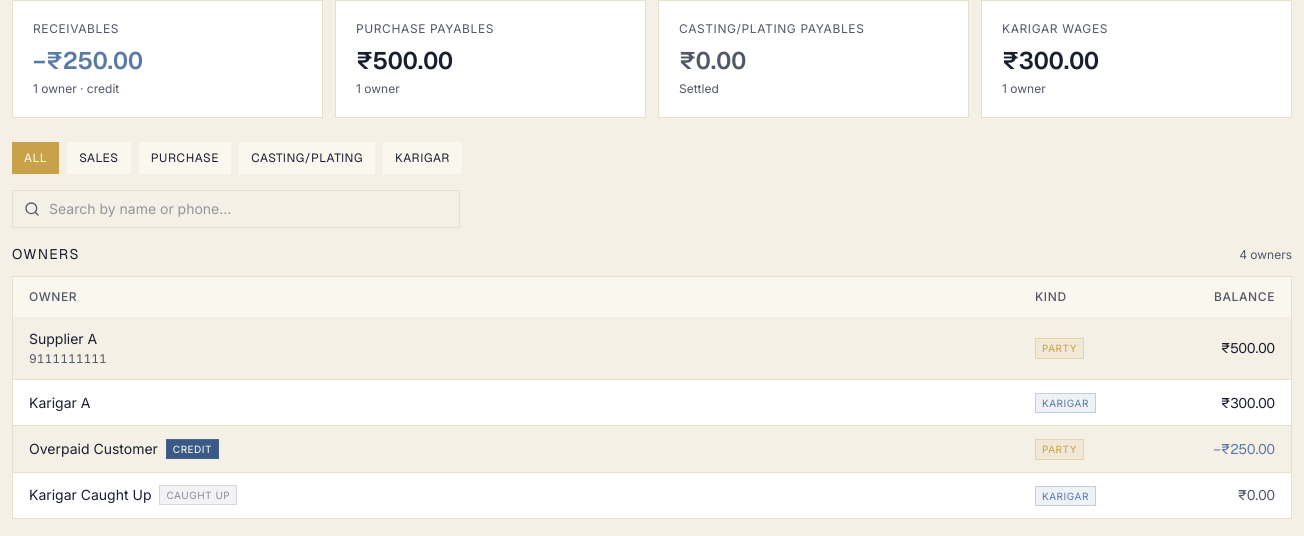
Test: LedgerClient — category tabs (Phase 21c.1.1) › clicking Purchase tab filters to purchase owners only
Step 1. Click the radio button with test id "ledger-tab" showing "Purchase" → (185,158), box [139, 142, 231, 174]
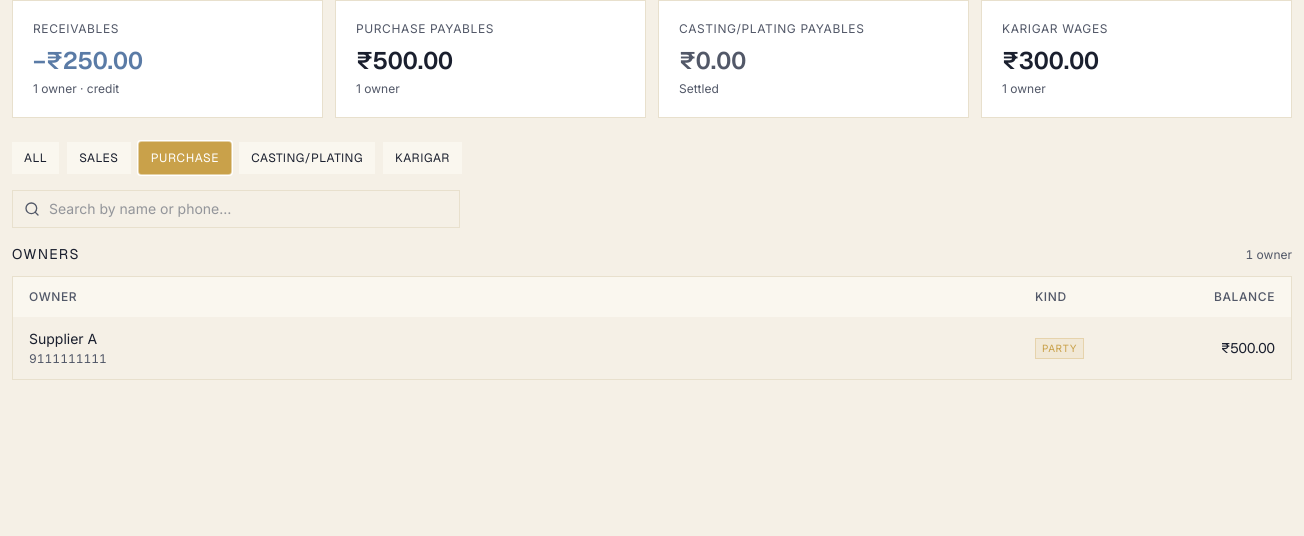
Expected: the number of rows with test id "ledger-owner-row" is 1, [13, 317, 1291, 379]
